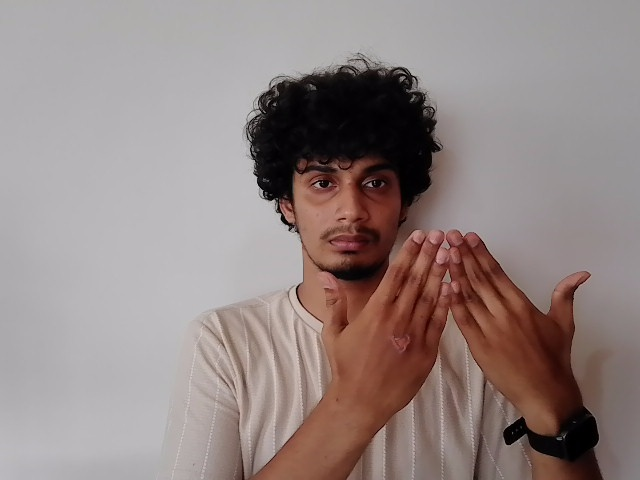thankyou: (315, 221, 599, 414)
